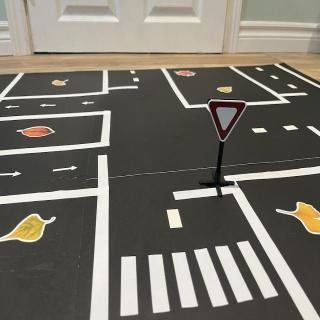road_crosswalk: (119, 236, 285, 320)
road_oneway: (52, 163, 80, 175), (1, 170, 25, 180), (40, 102, 58, 110), (81, 99, 97, 107), (6, 106, 22, 111)
sign_yield: (208, 101, 248, 144)
